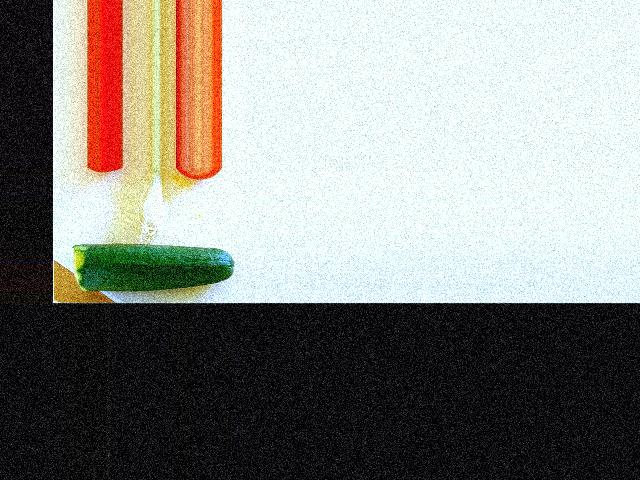cucumber: (72, 244, 235, 292)
